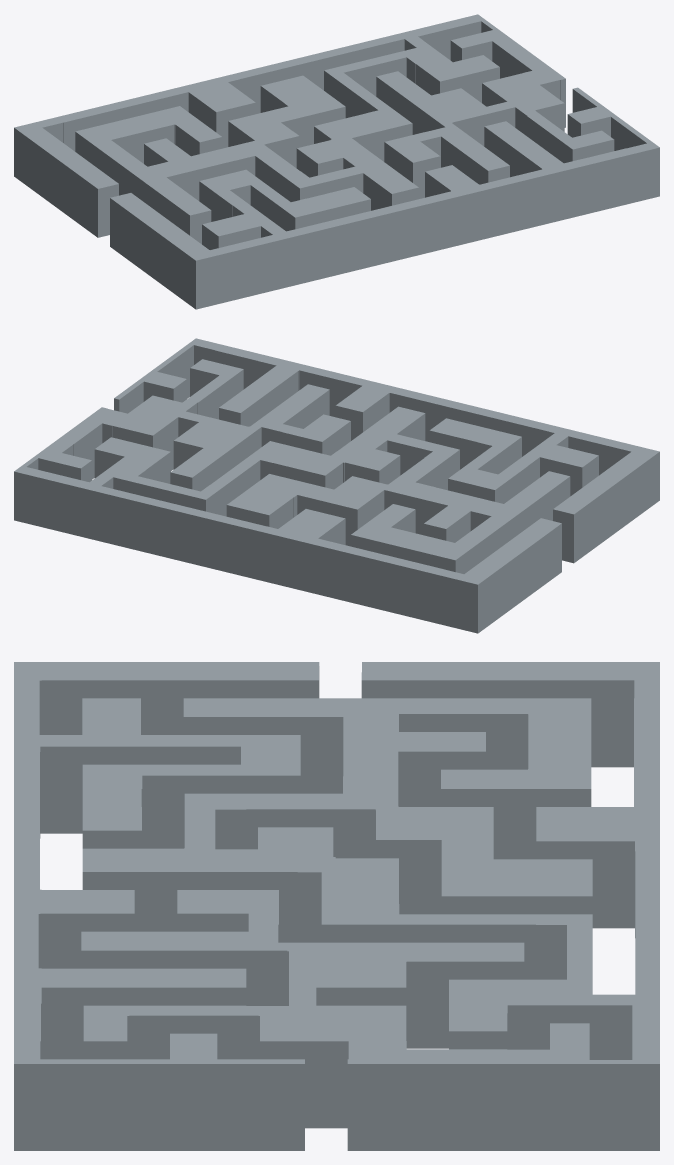
The model's file is Maze.obj.
The picture shows the model from 3 angles, top to bottom: view 1: azimuth 30°, elevation 25°; view 2: azimuth 150°, elevation 25°; view 3: azimuth 270°, elevation 25°; orthographic projection. The views are drawn at different scales.
Parts seen in each view (by area): view 1: Куб.022; view 2: Куб.022; view 3: Куб.022.
Boxes of the visible parts, <box> form: Куб.022: <box>14,14,659,309</box>; Куб.022: <box>14,338,659,633</box>; Куб.022: <box>14,662,659,1150</box>.
Bounding box in the file's own units: 44.62 × 4.49 × 30.3.
